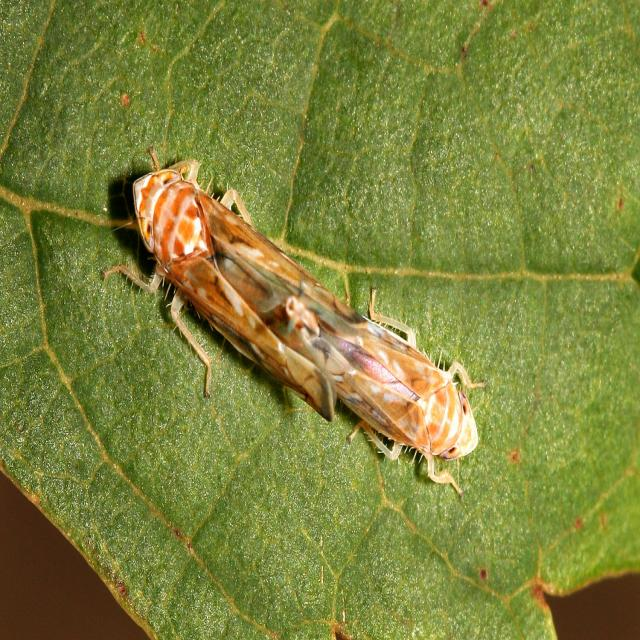Yechan: (128, 151, 327, 402), (283, 259, 483, 496)
